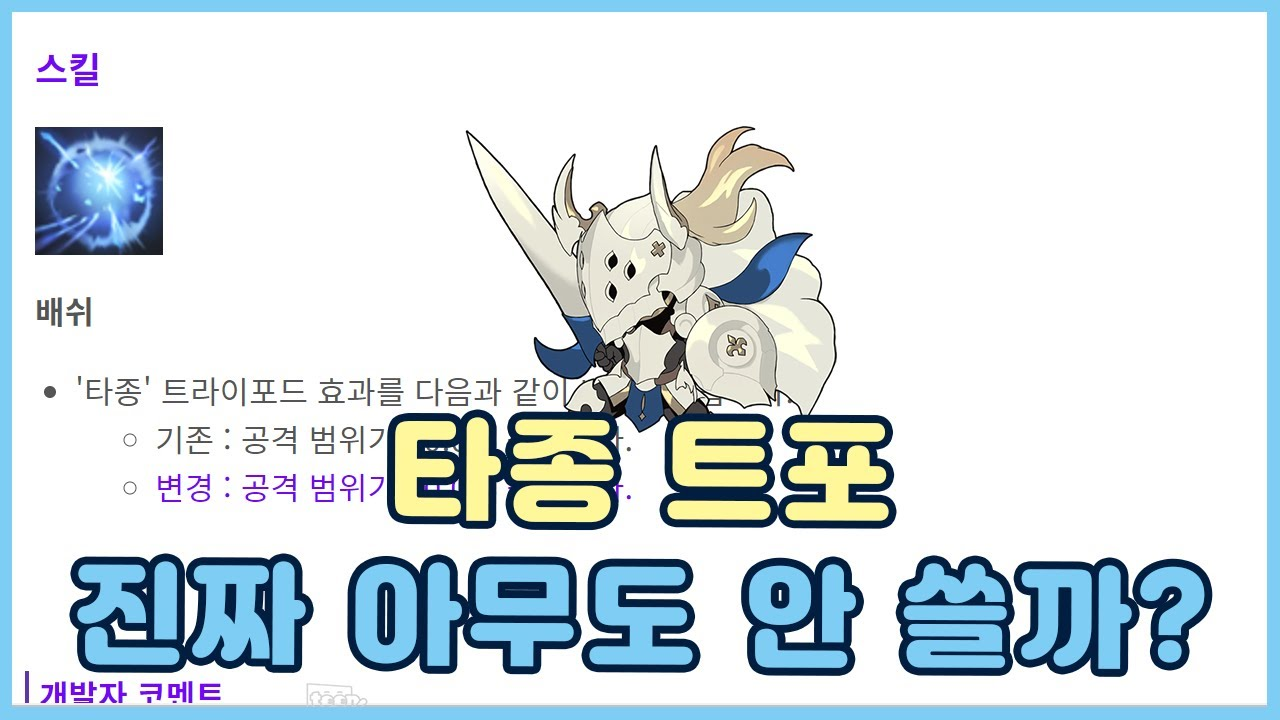쓸까?: (895, 551, 1215, 679)
아무도: (346, 552, 703, 677)
안: (740, 554, 865, 679)
진짜: (66, 552, 315, 676)
타종: (386, 410, 623, 534)
트포: (659, 412, 897, 530)
